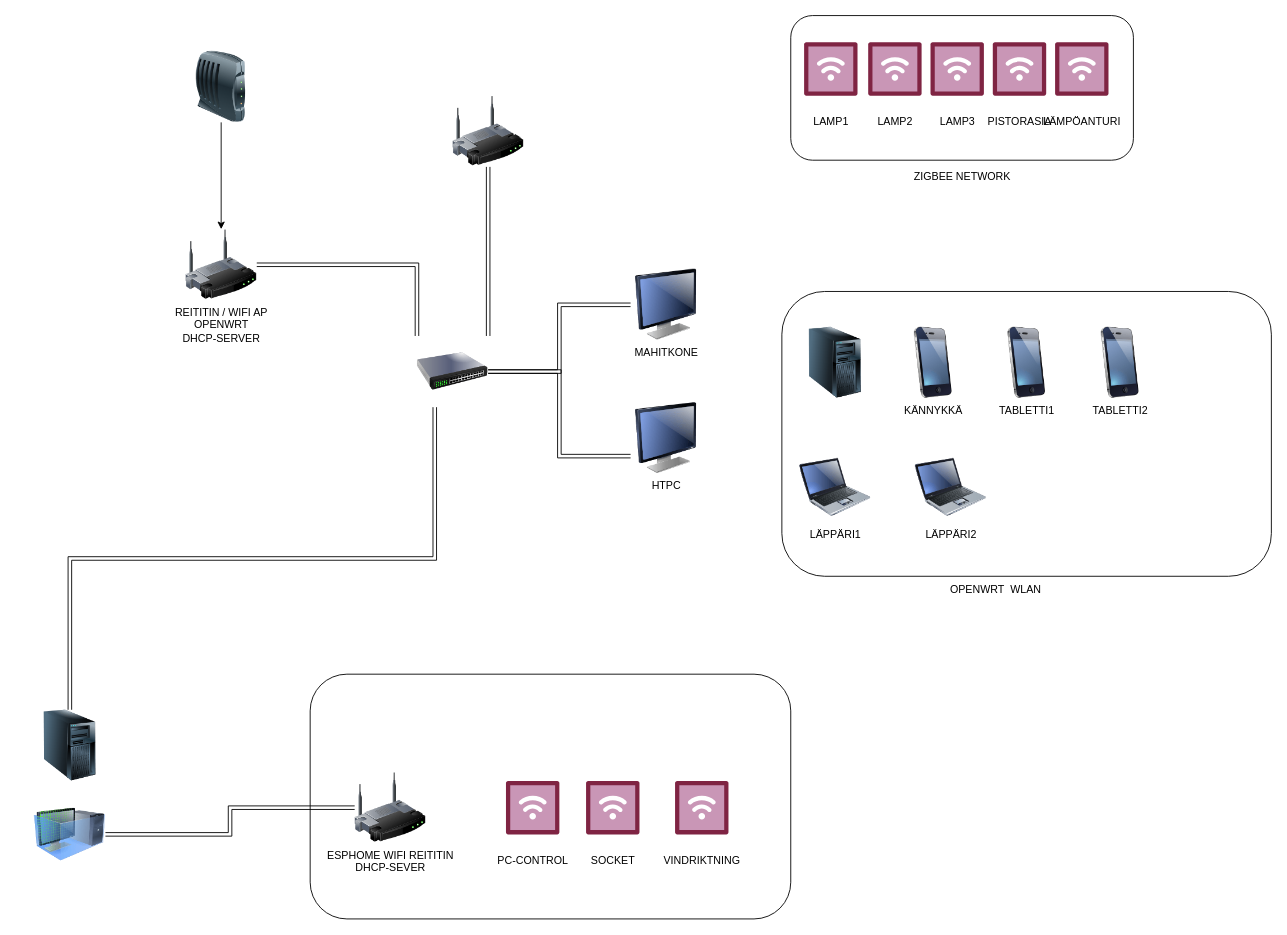
Some shapes in this 1287 by 935 pixel diagram are drawn without their labels. The box of each missing label's shape, as (x1, y1, x2, y2) in pixels:
3D PRINTTERI: (799, 327, 870, 398)
HOMEASSISTANT VM: (34, 798, 105, 870)
MODEEMI: (185, 51, 256, 122)
SERVERIKONE: (34, 709, 105, 781)
ZIGBEÉ EDGEROUTER: (452, 95, 523, 166)
